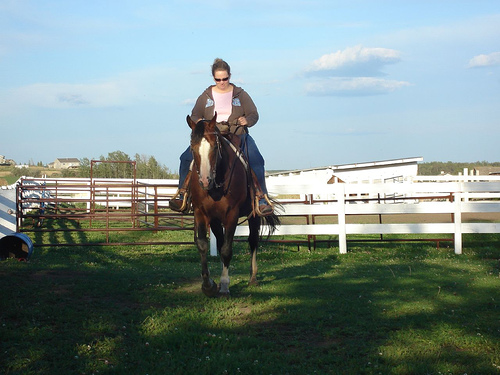without_mask: (211, 69, 233, 90)
